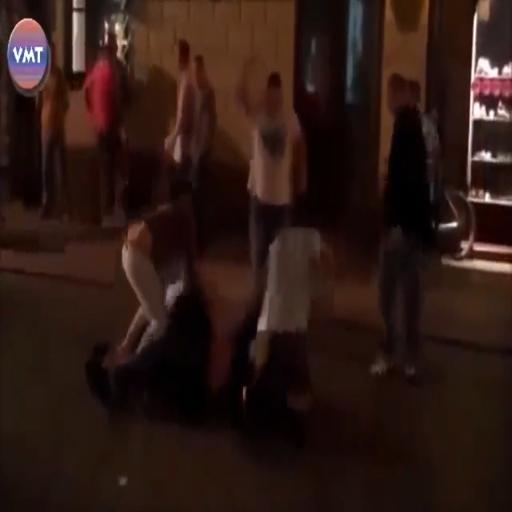violencia: (78, 169, 216, 428), (225, 191, 339, 460)
